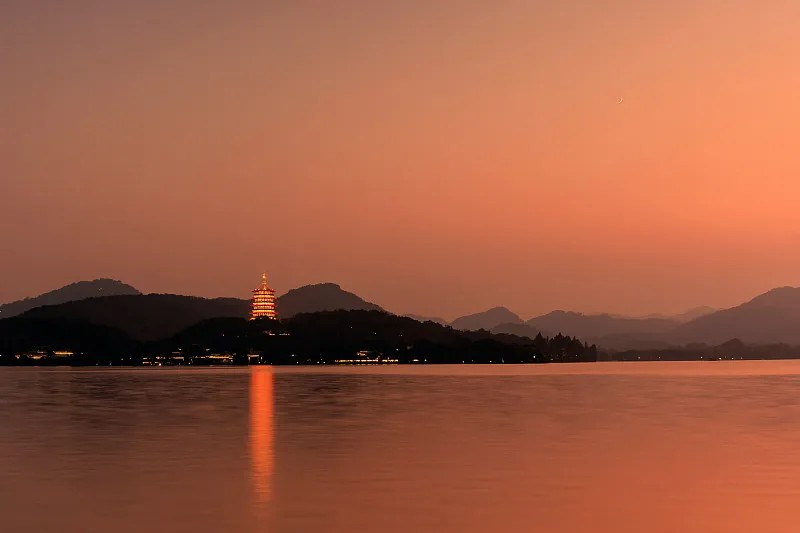Leifeng: (247, 271, 281, 323)
